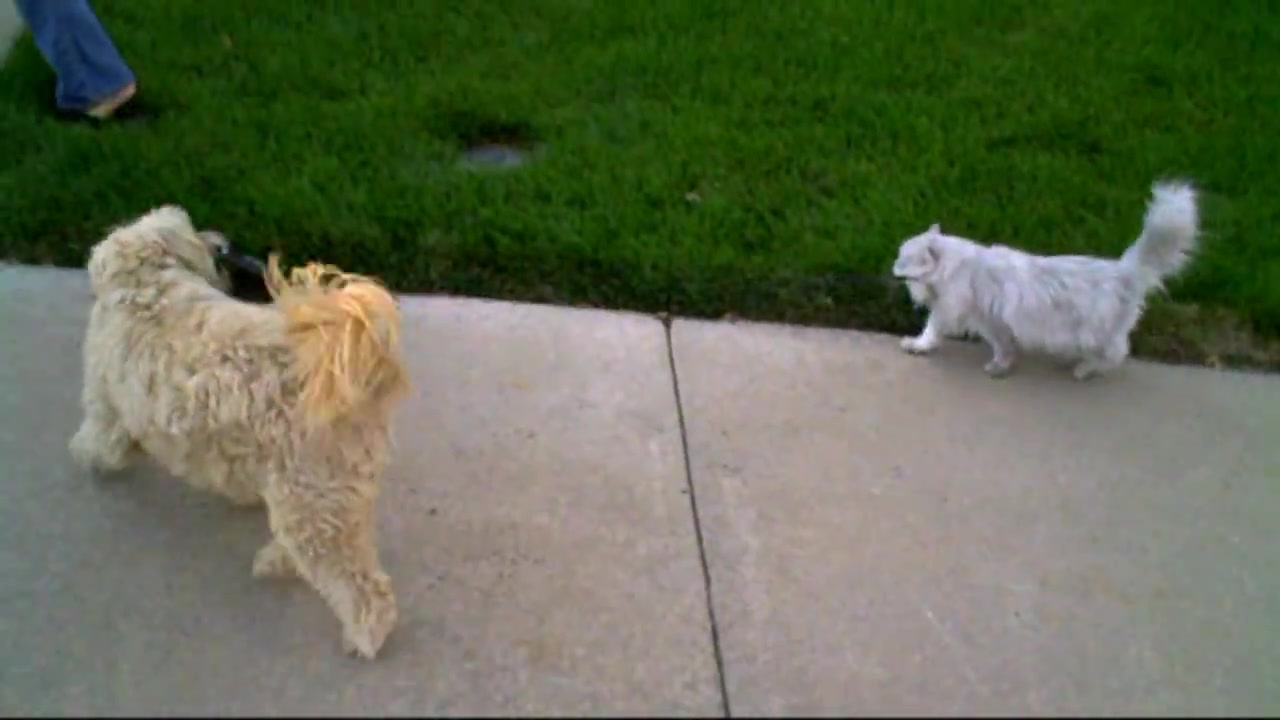dog: (73, 196, 405, 660)
